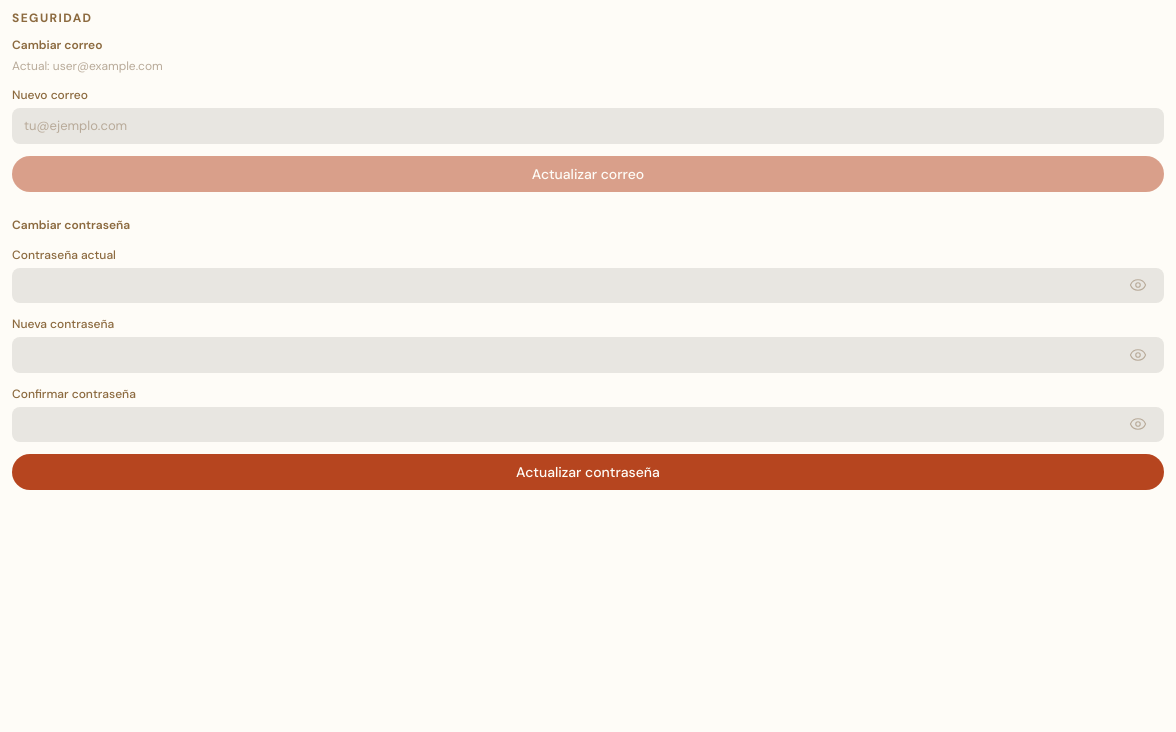
Test case: SecurityForm › password strength shows "Muy corta" for fewer than 6 chars
Type "abc" into the password field labelled "Nueva contraseña" at (588, 355), box [12,337,1164,372]
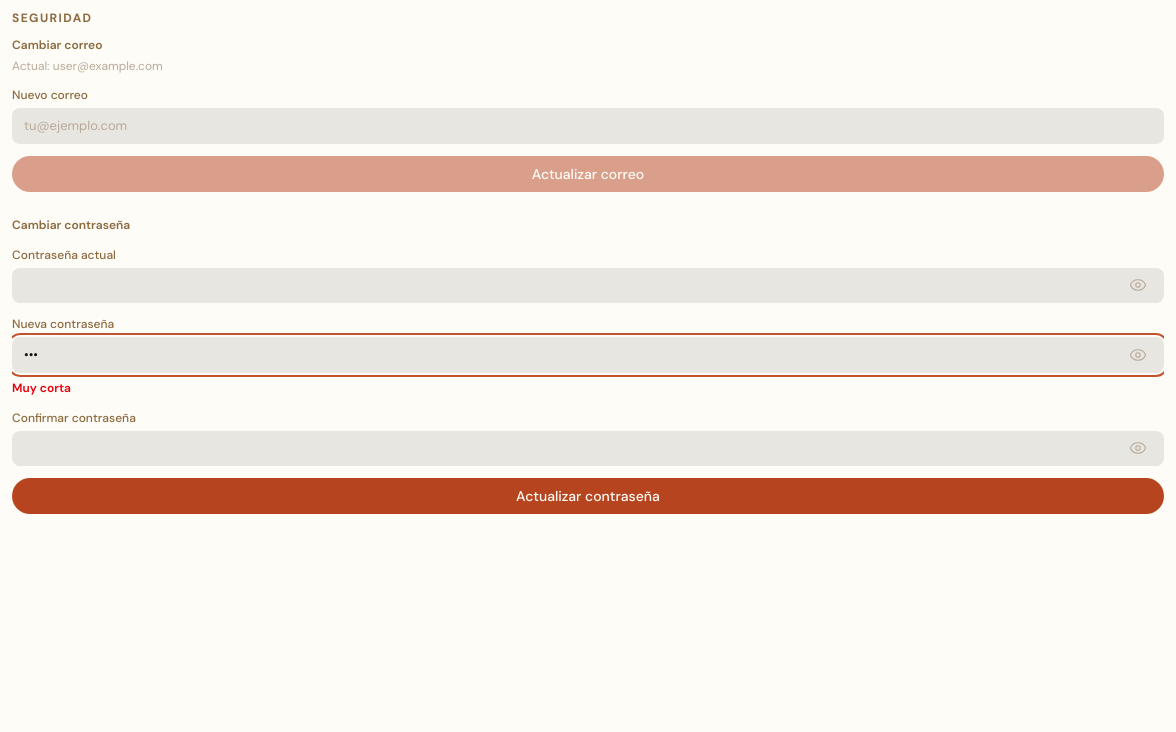
Expected: the text "Muy corta" is shown, [12,380,71,396]
